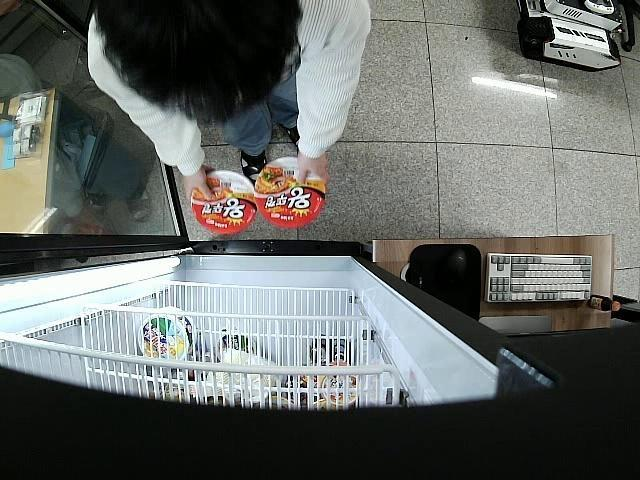10_wangTtukkeong: (256, 157, 326, 228), (192, 170, 256, 234)
